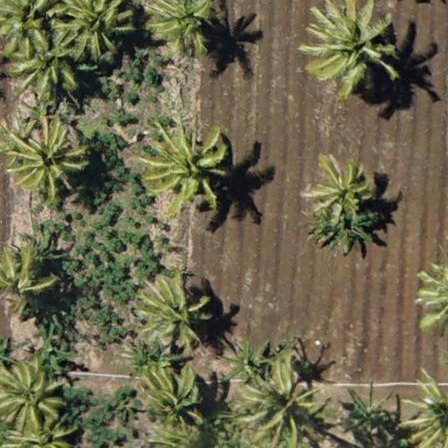palm_tree: (128, 358, 211, 446), (142, 118, 222, 203), (134, 273, 212, 356), (307, 1, 384, 82), (242, 368, 314, 444), (52, 1, 133, 68), (13, 123, 83, 198), (309, 155, 378, 229), (1, 352, 65, 426), (136, 1, 216, 57), (1, 246, 48, 319), (1, 1, 58, 59)
